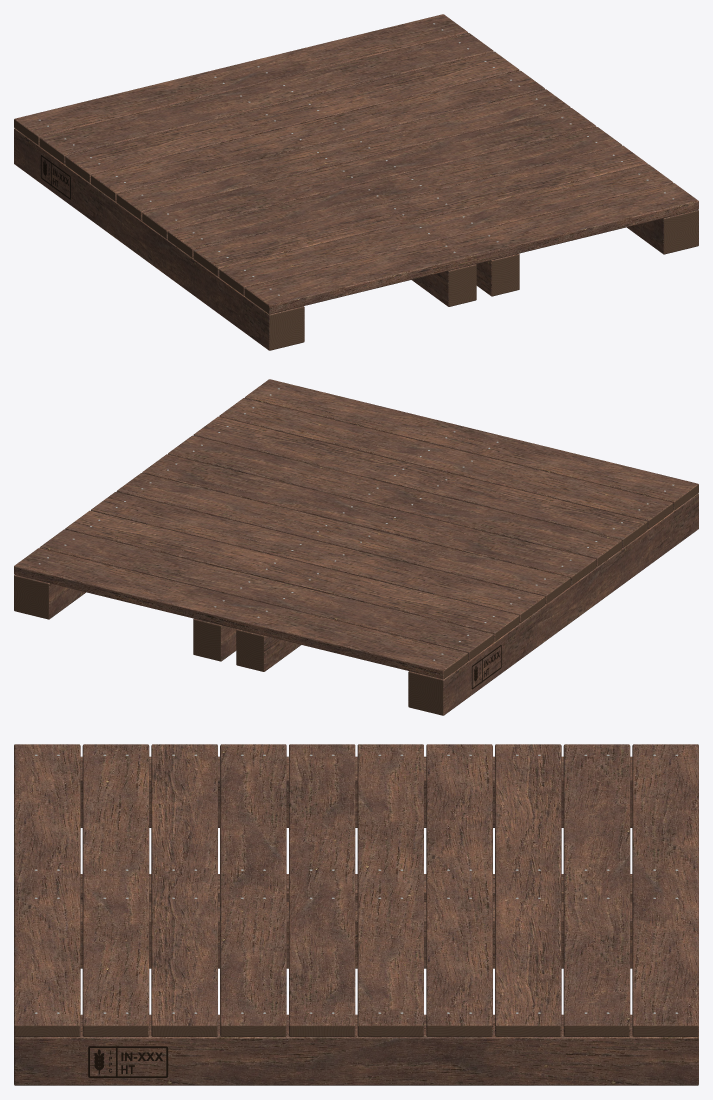
Rendered from hw04-hardwood-skid-pallet-1235x1200.glb.
3 renders of one model, top to bottom at view 1: azimuth 30°, elevation 25°; view 2: azimuth 150°, elevation 25°; view 3: azimuth 270°, elevation 25°, orthographic. The views are drawn at different scales.
Visible parts, largest first — view 1: hw04-hardwood-skid-pallet-1235x1200; view 2: hw04-hardwood-skid-pallet-1235x1200; view 3: hw04-hardwood-skid-pallet-1235x1200.
Part boxes in pixels (x1,y1,x2,y2): hw04-hardwood-skid-pallet-1235x1200: (14,14,698,350); hw04-hardwood-skid-pallet-1235x1200: (14,379,698,715); hw04-hardwood-skid-pallet-1235x1200: (14,744,698,1085).
Size of the model in its own units: 1.2 by 0.1224 by 1.24.
Materials: 4 (3 with a texture image).
